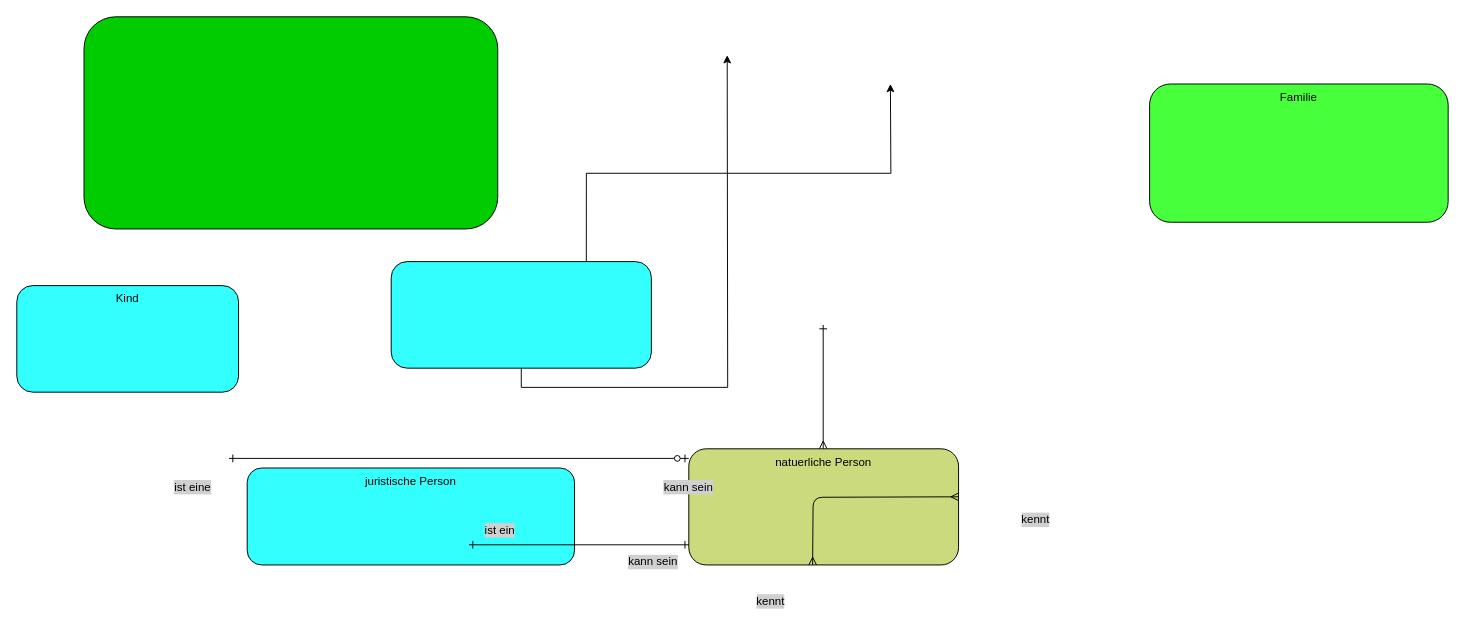
Some shapes in this 1465 by 631 pixel diagram are drawn without their labels. Each missing label, with the centre of its shape:
"Elternteil" belongs at (x=520, y=314).
"Tier" belongs at (x=290, y=122).
